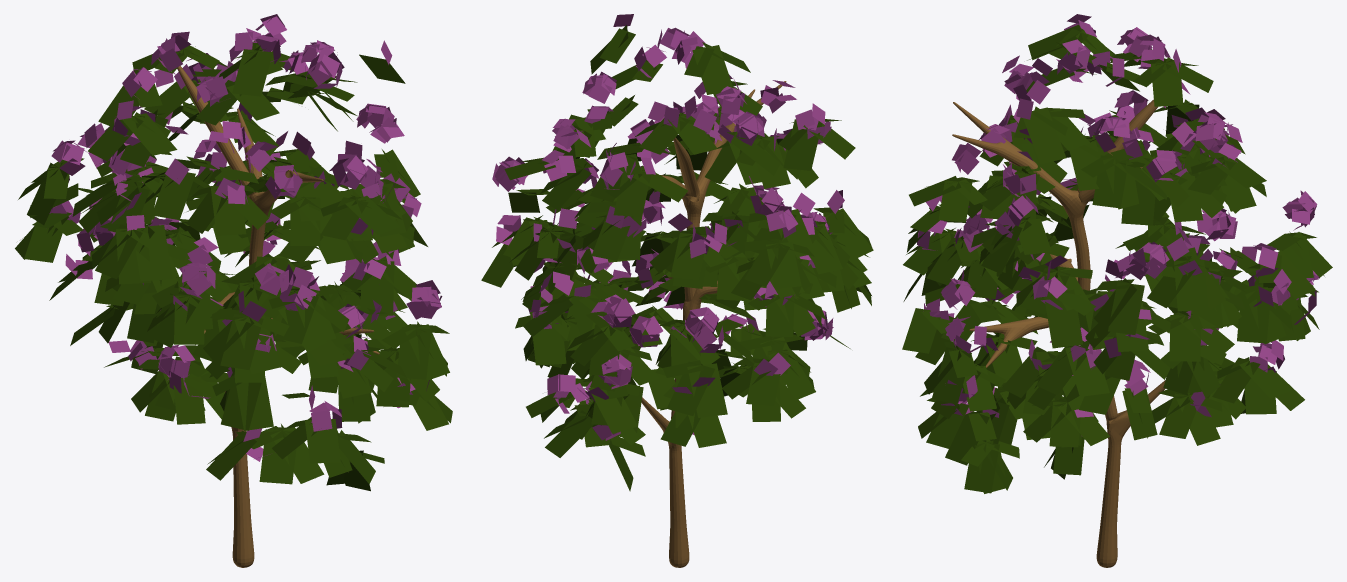
File: tabebuia.fbx
The picture shows the model from 3 angles, left to right: view 1: azimuth 30°, elevation 25°; view 2: azimuth 150°, elevation 25°; view 3: azimuth 270°, elevation 25°; orthographic projection. The views are drawn at different scales.
Parts seen in each view (by area): view 1: MI_LOD1_002.002; view 2: MI_LOD1_002.002; view 3: MI_LOD1_002.002.
Part boxes in pixels (x1,y1,x2,y2): MI_LOD1_002.002: [15, 14, 452, 567]; MI_LOD1_002.002: [481, 14, 873, 567]; MI_LOD1_002.002: [902, 14, 1332, 567].
Bounding box in the file's own units: 401 × 561 × 415.
